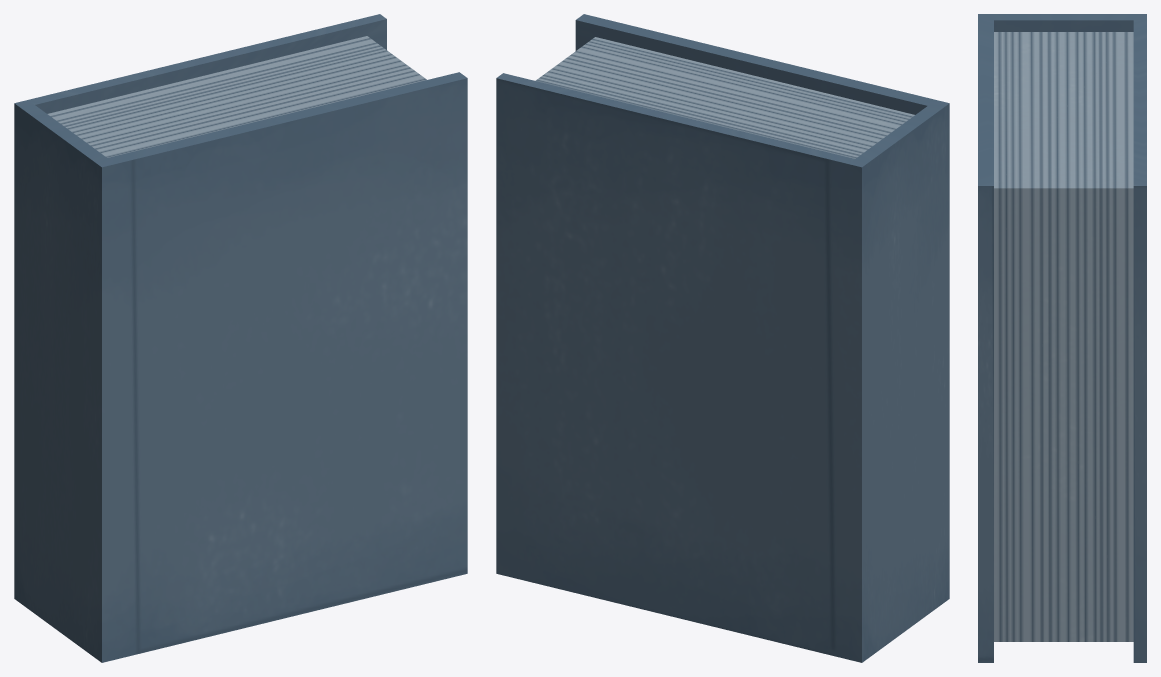
The model's file is Book_new.fbx.
3 renders of one model, left to right at view 1: azimuth 30°, elevation 25°; view 2: azimuth 150°, elevation 25°; view 3: azimuth 270°, elevation 25°, orthographic. The views are drawn at different scales.
Visible parts, largest first — view 1: Book; view 2: Book; view 3: Book.
Part boxes in pixels (left/top/right/bottom): Book: left=14, top=14, right=467, bottom=662; Book: left=496, top=14, right=949, bottom=662; Book: left=978, top=14, right=1146, bottom=662.
Size of the model in its own units: 16.04 by 20.77 by 6.66.
1 material, 1 textured.
